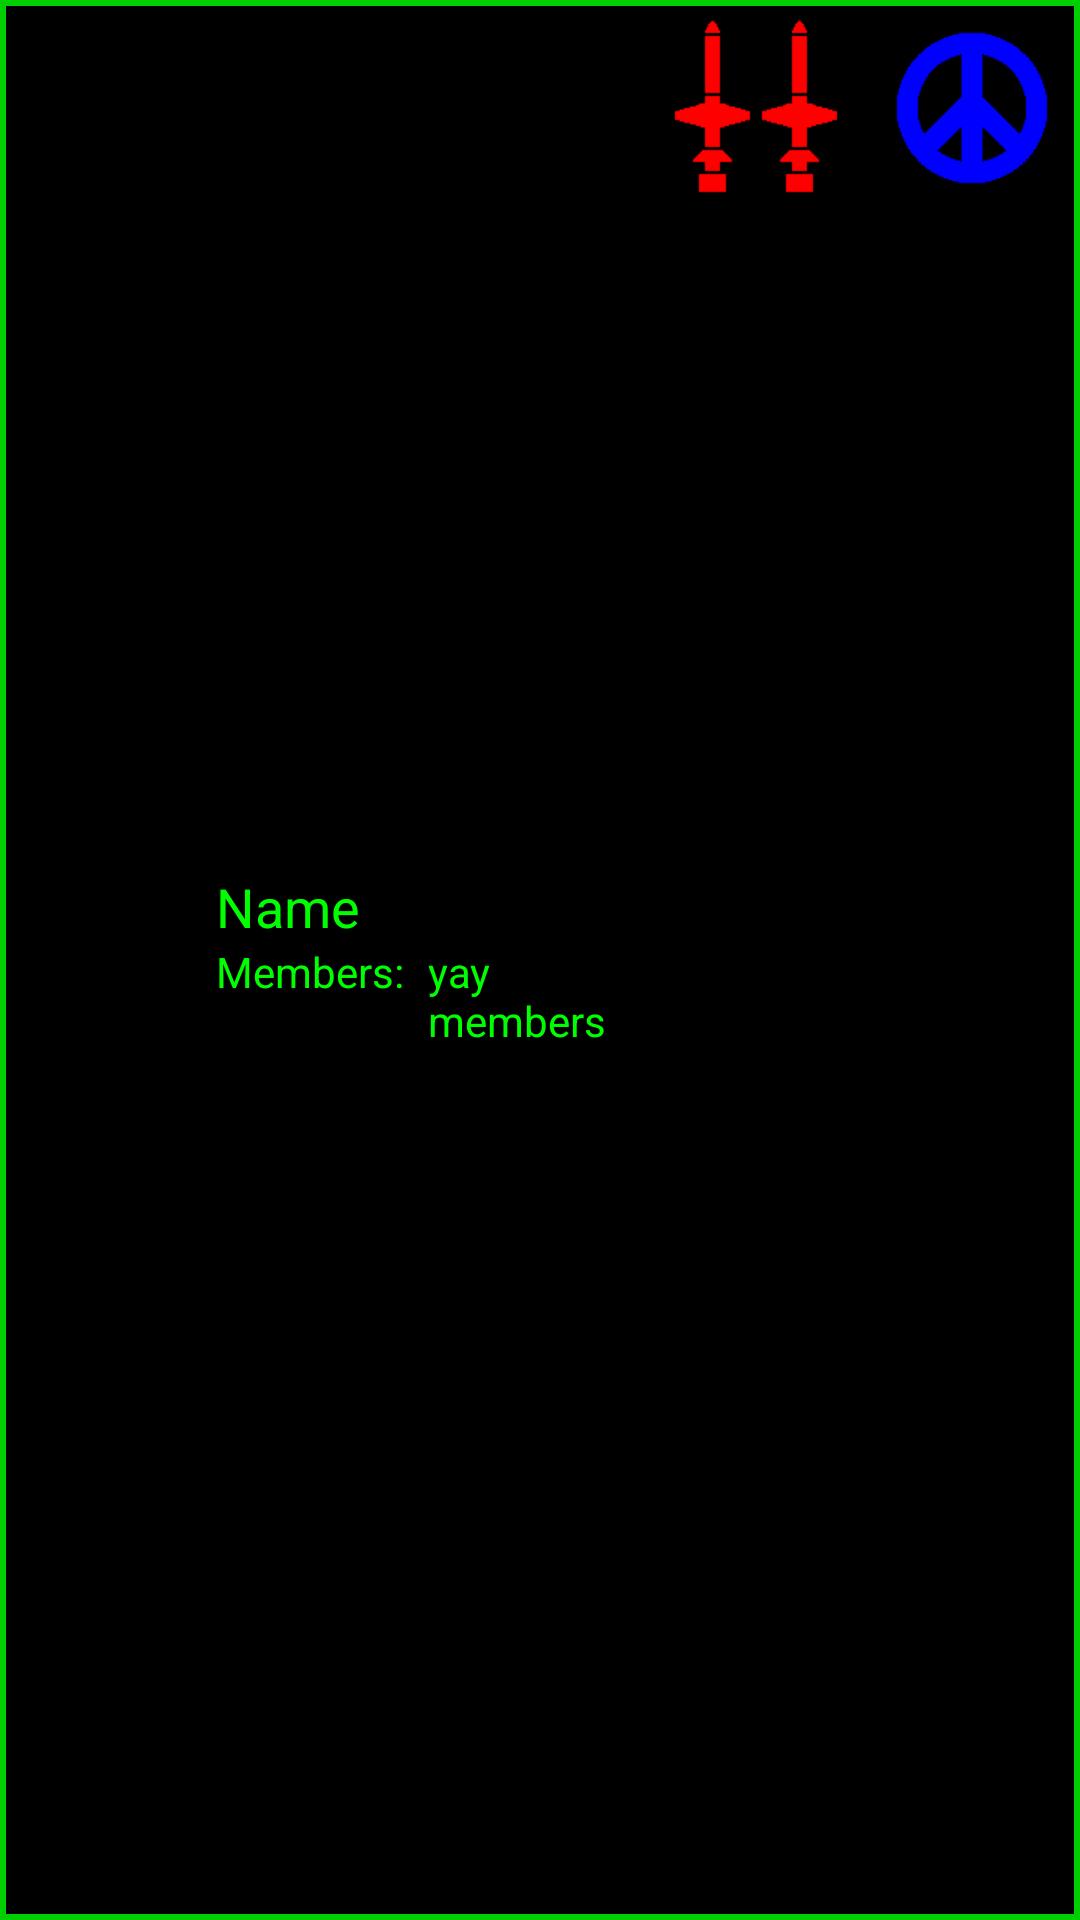

Where icons sit on this 1080x1920 app screen, as detection(x1, y1, x2, y2):
declare war: detection(674, 20, 838, 193)
propose affiliation: detection(896, 32, 1048, 184)
